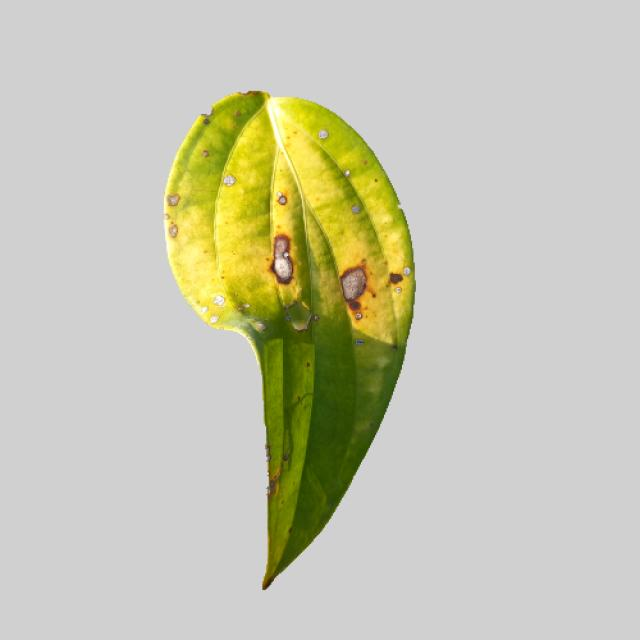leaf-blight: (142, 95, 435, 592)
